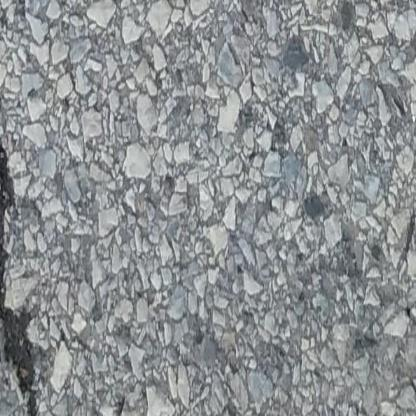Cracks: (0, 29, 42, 416)
